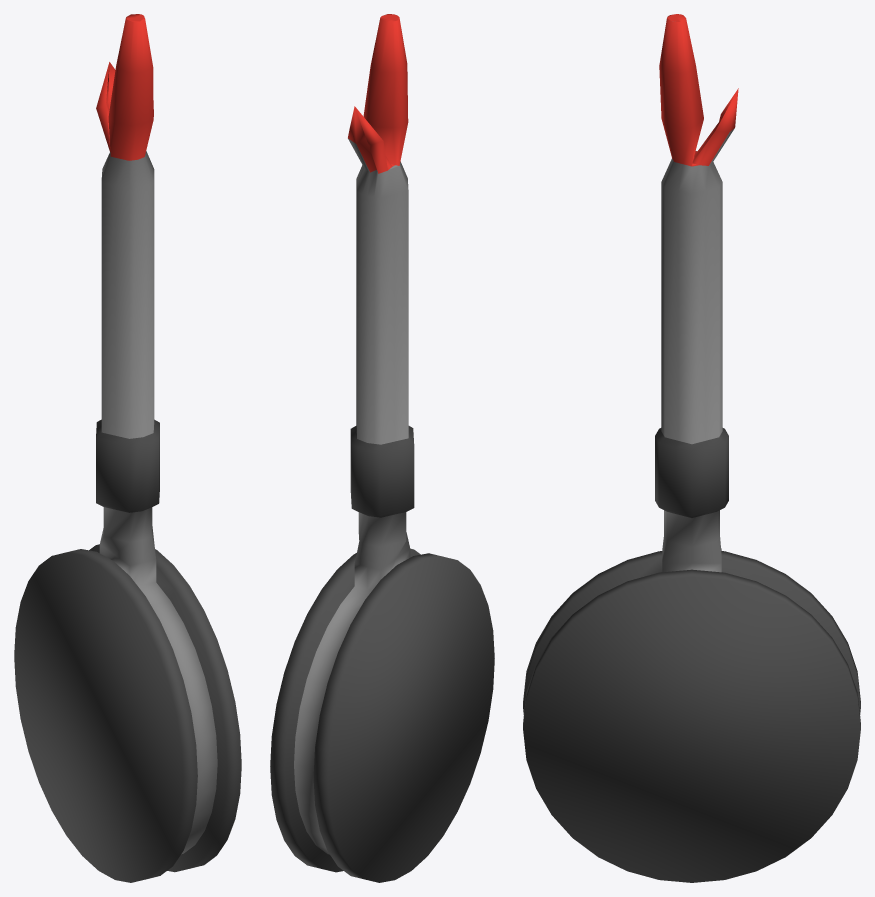
File: trainBrake.fbx
The picture shows the model from 3 angles, left to right: view 1: azimuth 30°, elevation 25°; view 2: azimuth 150°, elevation 25°; view 3: azimuth 270°, elevation 25°; orthographic projection.
Visible parts, largest first — view 1: Cylinder; view 2: Cylinder; view 3: Cylinder.
Part boxes in pixels (box(x1,y1,x2,y2)): Cylinder: box(14, 14, 241, 882); Cylinder: box(270, 14, 494, 882); Cylinder: box(523, 14, 860, 882).
Size of the model in its own units: 43.86 by 556 by 200.
